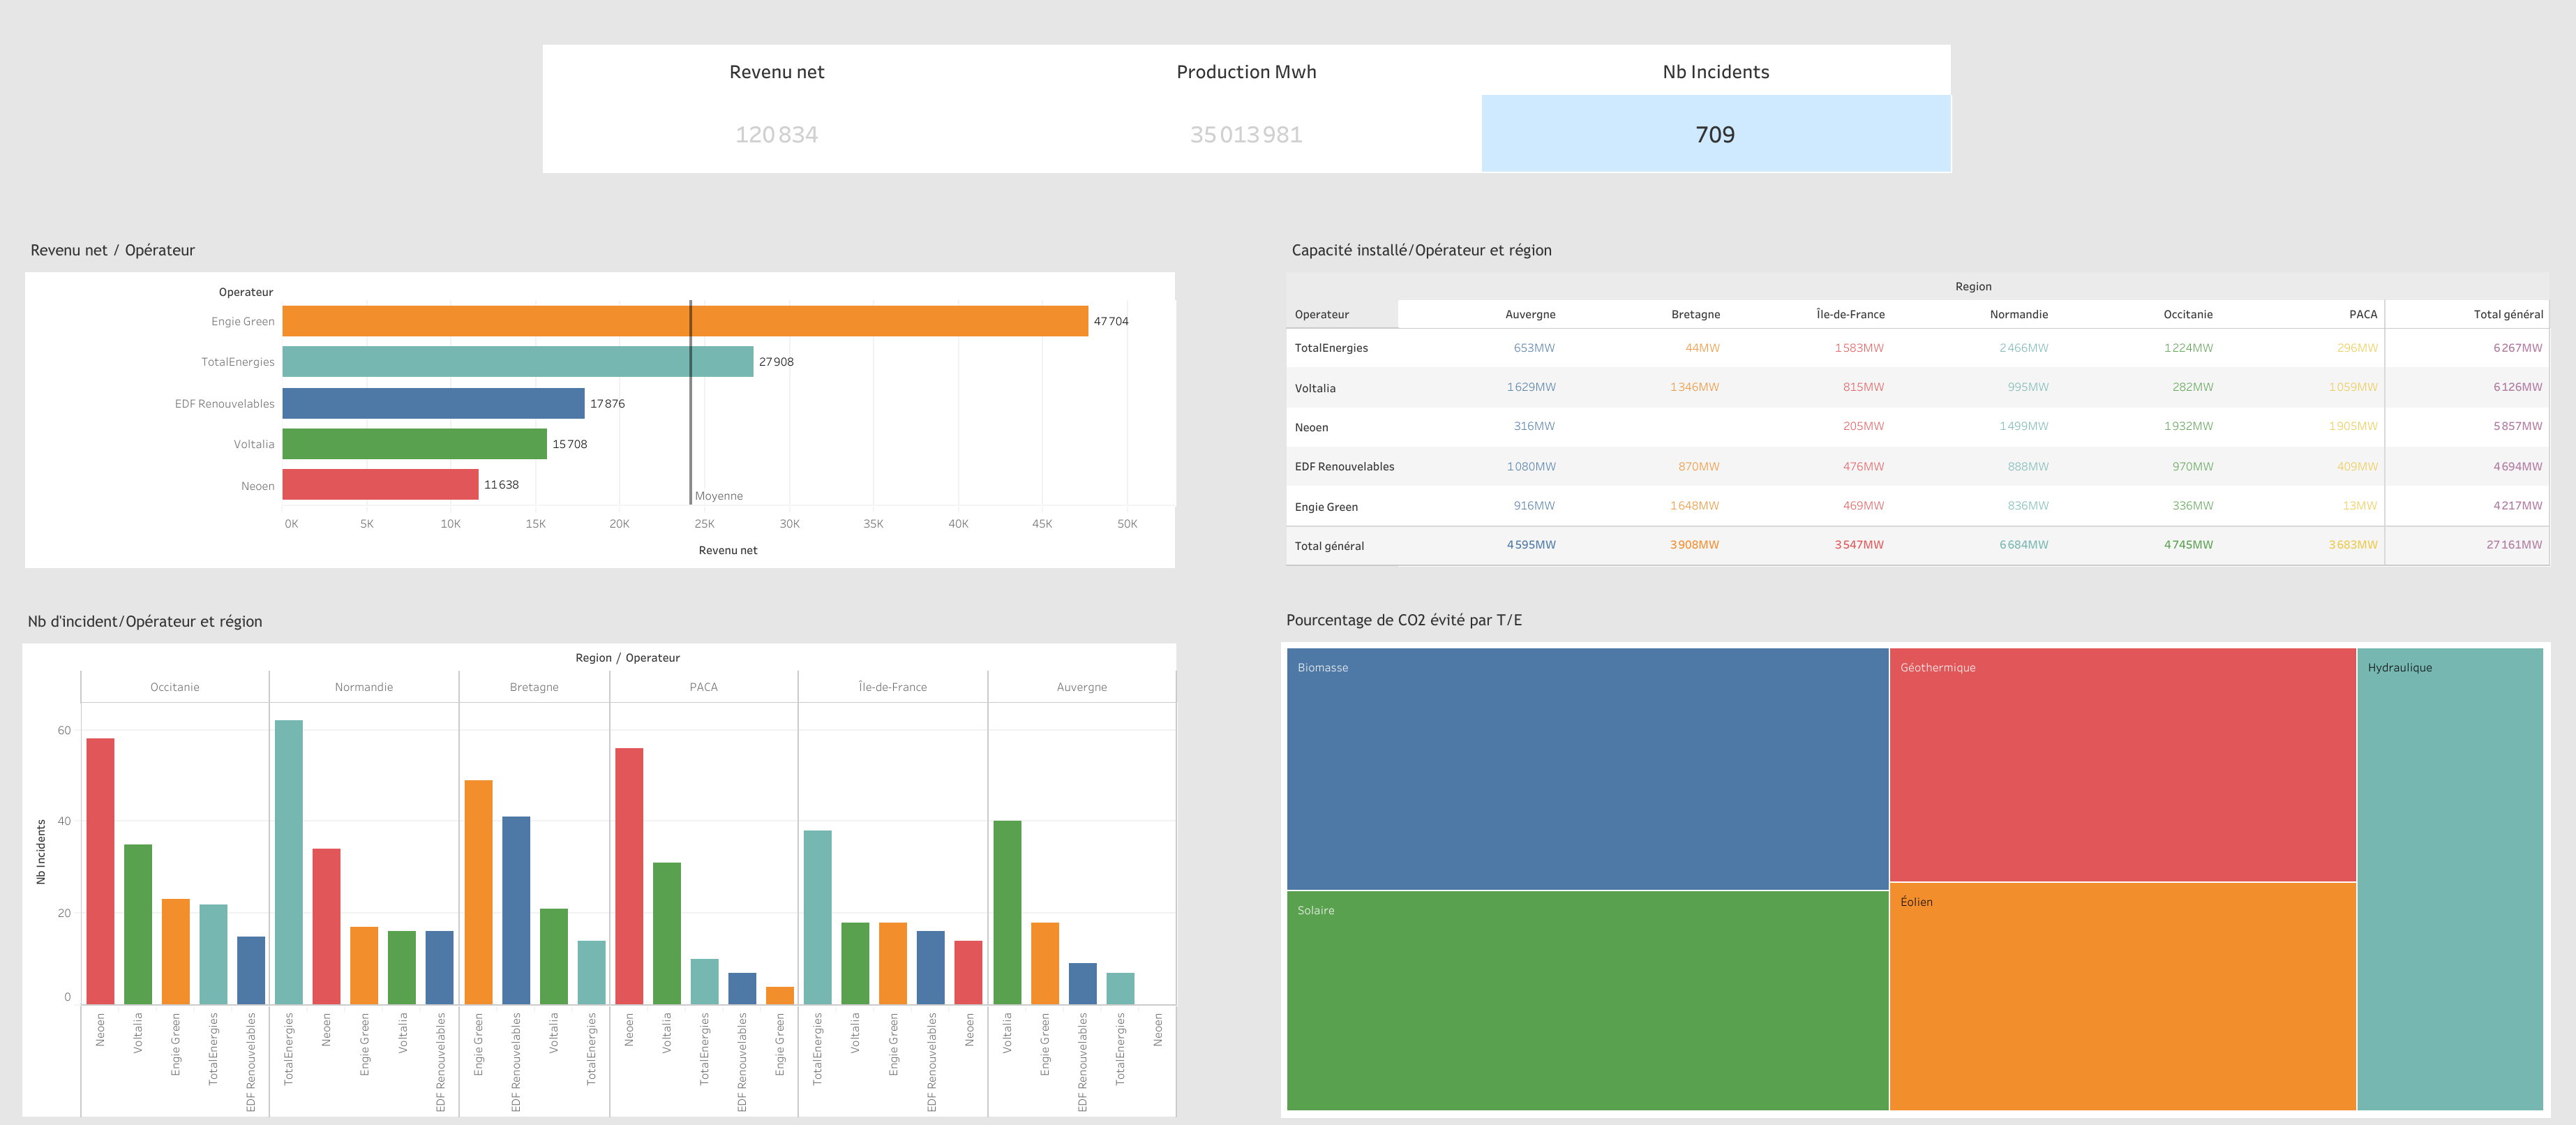

The page's visual inventory and layout, read from the dashboard file:
{"tool":"tableau","page":{"name":"Tableau de bord - ER France","canvas":[1000,1000],"units":"permille","ordinal":0},"visuals":[{"type":"worksheet","title":"KPI","mark":"Automatic","box":[210.8,39.1,545.9,114.9]},{"type":"worksheet","title":"Revenu net par Opérateur","mark":"Automatic","rows":["operateur"],"cols":["Calculation_0833454345748480"],"box":[9.6,205.5,446.5,299.1]},{"type":"worksheet","title":"Capacité installée par opérateur et région","mark":"Automatic","rows":["operateur"],"cols":["region"],"box":[499.4,205.5,490.4,297.9]},{"type":"worksheet","title":"Pourcentage de CO2 évité par T/E","mark":"Automatic","box":[497,533.5,492.2,459.6]},{"type":"worksheet","title":"Nb d'incident / Opérateur et Région","mark":"Automatic","rows":["nb_incidents"],"cols":["region","operateur"],"box":[8.4,535.8,448.3,457.3]}]}

Visuals, with their boxes on the dashboard's canvas, which has no fixed pixel size, in thousandths of its width and height (x1, y1, x2, y2). These are canvas units, not pixel positions in the 2576x1125 screenshot, which may show the page scaled, cropped or inside an application window:
"KPI" worksheet: 211/39/757/154
"Revenu net par Opérateur" worksheet: 10/206/456/505
"Capacité installée par opérateur et région" worksheet: 499/206/990/503
"Pourcentage de CO2 évité par T/E" worksheet: 497/534/989/993
"Nb d'incident / Opérateur et Région" worksheet: 8/536/457/993
